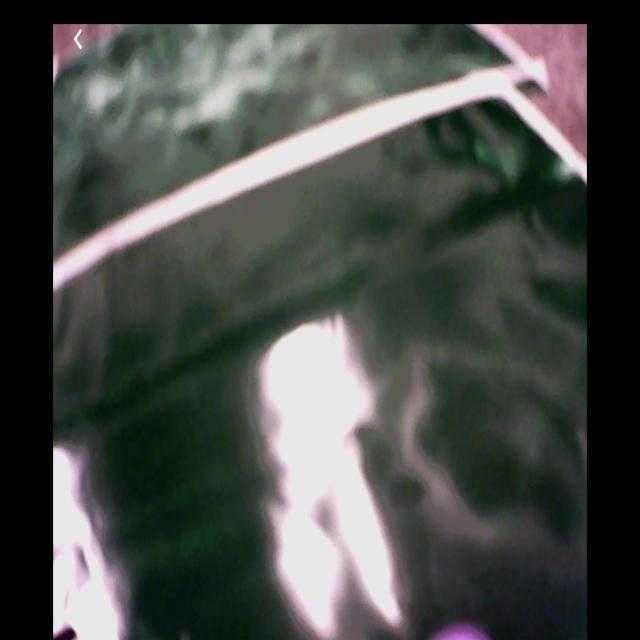ball: (430, 622, 492, 640)
